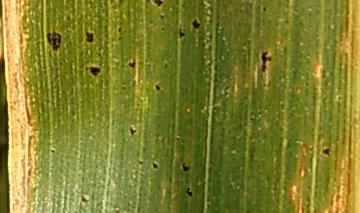tarspot: (255, 46, 274, 80), (43, 27, 64, 51), (83, 59, 105, 80), (83, 27, 96, 46), (79, 192, 92, 206), (126, 123, 137, 139), (184, 184, 195, 200), (179, 160, 192, 173), (319, 146, 333, 158), (126, 56, 138, 69), (190, 17, 202, 30), (259, 2, 270, 16), (176, 27, 187, 41), (149, 1, 166, 10), (152, 80, 162, 93), (150, 159, 160, 171), (64, 12, 74, 22), (48, 147, 59, 156), (158, 23, 167, 33), (158, 12, 167, 21), (137, 159, 146, 168), (116, 23, 123, 34), (116, 1, 126, 8)
